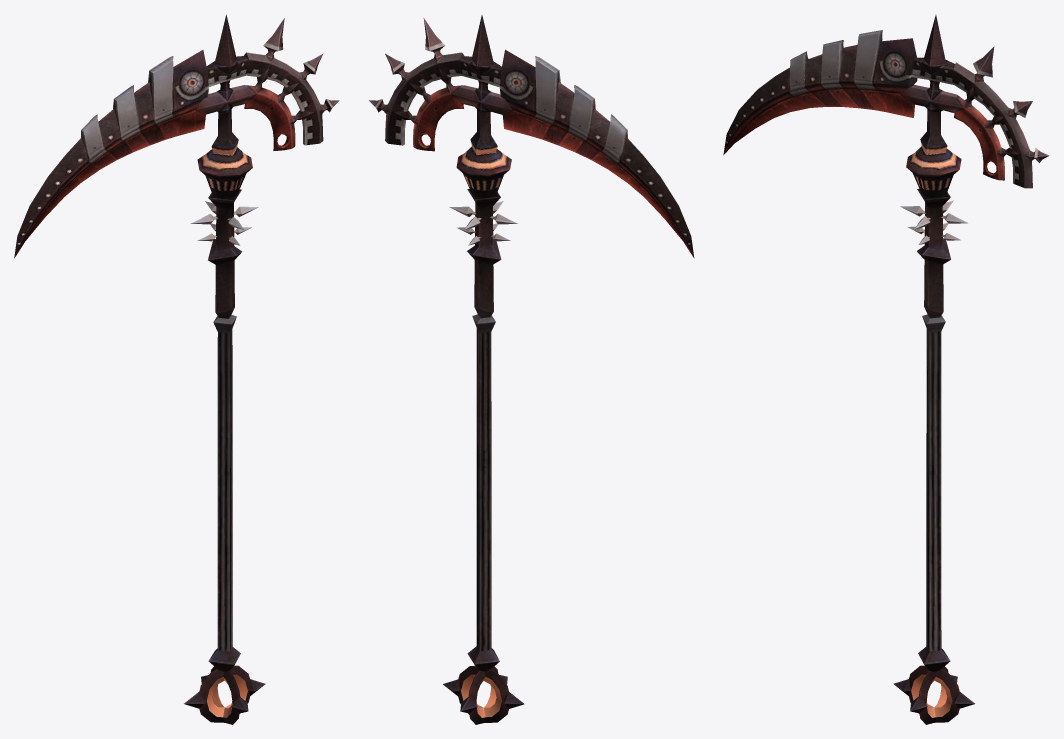
Rendered from Weapon17.FBX.
The picture shows the model from 3 angles, left to right: view 1: azimuth 30°, elevation 25°; view 2: azimuth 150°, elevation 25°; view 3: azimuth 330°, elevation 25°; orthographic projection.
Parts seen in each view (by area): view 1: Weapon17; view 2: Weapon17; view 3: Weapon17.
Boxes of the visible parts, <box> form: Weapon17: <box>14,14,339,724</box>; Weapon17: <box>369,15,694,724</box>; Weapon17: <box>723,15,1049,724</box>.
Bounding box in the file's own units: 108 × 224 × 27.28.
